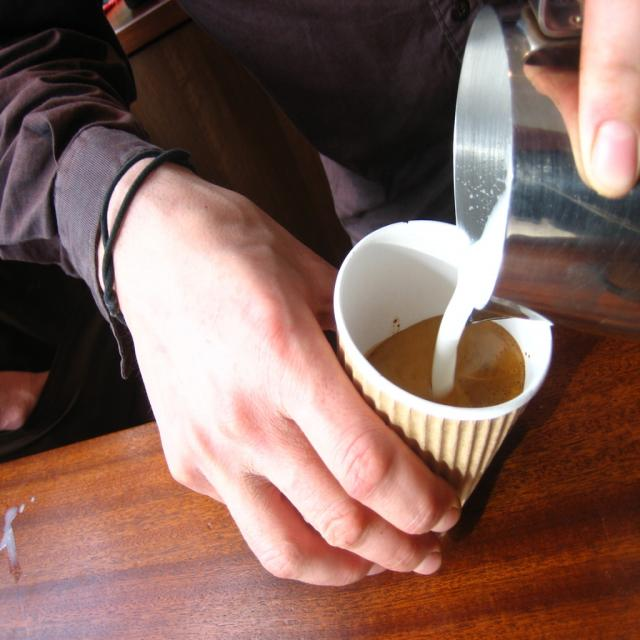Coffee: (366, 311, 524, 406)
Tea: (366, 317, 524, 408)
